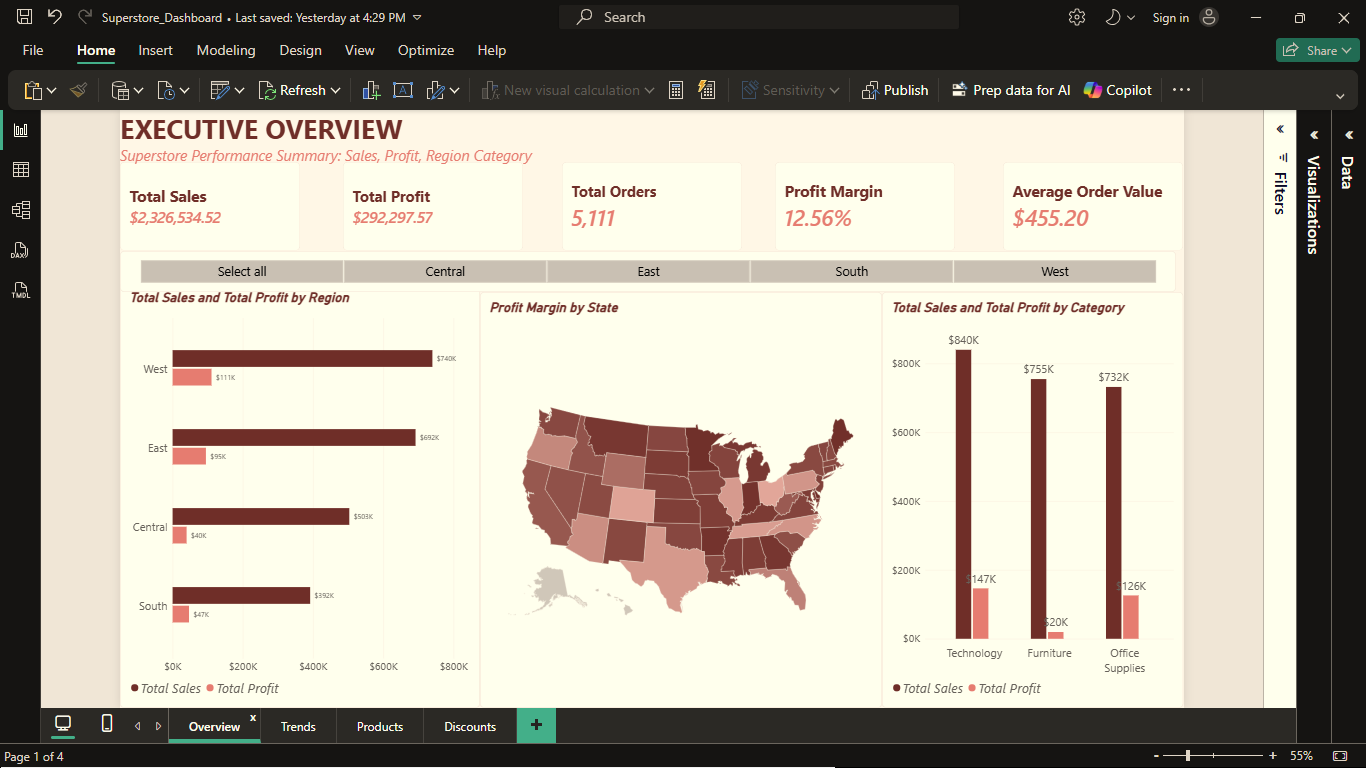

What the dashboard file says about the page in this screenshot:
{"tool":"powerbi","page":{"name":"Overview","canvas":[1920,1080],"ordinal":0},"visuals":[{"type":"clusteredColumnChart","fields":{"Category":["superstore orders.Category"],"Y":["superstore orders.Total Sales","superstore orders.Total Profit"]},"box":[1376.2,328.7,543.6,751.3],"z":0},{"type":"cardVisual","fields":{"Data":["superstore orders.Average Order Value"]},"box":[1594.7,93.9,325.1,160.7],"z":1000},{"type":"cardVisual","fields":{"Data":["superstore orders.Profit Margin"]},"box":[1182.9,93.9,325.1,160.7],"z":2000},{"type":"cardVisual","fields":{"Data":["superstore orders.Total Orders"]},"box":[798.3,93.9,325.1,160.7],"z":3000},{"type":"cardVisual","fields":{"Data":["superstore orders.Total Profit"]},"box":[402.7,93.9,325.1,160.7],"z":4000},{"type":"cardVisual","fields":{"Data":["superstore orders.Total Sales"]},"box":[0,93.9,325.1,160.7],"z":5000},{"type":"shapeMap","title":"Profit Margin by State","fields":{"Category":["superstore orders.State"],"Value":["superstore orders.Profit Margin"]},"box":[650.2,328.7,726,751.3],"z":6000},{"type":"clusteredBarChart","fields":{"Category":["superstore orders.Region"],"Y":["superstore orders.Total Sales","superstore orders.Total Profit"]},"box":[0,310.6,650.2,769.4],"z":7000},{"type":"slicer","fields":{"Values":["superstore orders.Region"]},"box":[0,254.6,1907.2,74],"z":8000},{"type":"textbox","box":[0,0,1907.2,106.6],"z":9000}]}

Visuals, with their boxes on the page's 1920x1080 design canvas (x1, y1, x2, y2). These are canvas units, not pixel positions in the 1366x768 screenshot, which may show the page scaled, cropped or inside an application window:
clusteredColumnChart - superstore orders.Category x superstore orders.Total Sales: crop(1376, 329, 1920, 1080)
cardVisual - superstore orders.Average Order Value: crop(1595, 94, 1920, 255)
cardVisual - superstore orders.Profit Margin: crop(1183, 94, 1508, 255)
cardVisual - superstore orders.Total Orders: crop(798, 94, 1123, 255)
cardVisual - superstore orders.Total Profit: crop(403, 94, 728, 255)
cardVisual - superstore orders.Total Sales: crop(0, 94, 325, 255)
"Profit Margin by State" shapeMap: crop(650, 329, 1376, 1080)
clusteredBarChart - superstore orders.Region x superstore orders.Total Sales: crop(0, 311, 650, 1080)
slicer - superstore orders.Region: crop(0, 255, 1907, 329)
textbox: crop(0, 0, 1907, 107)
